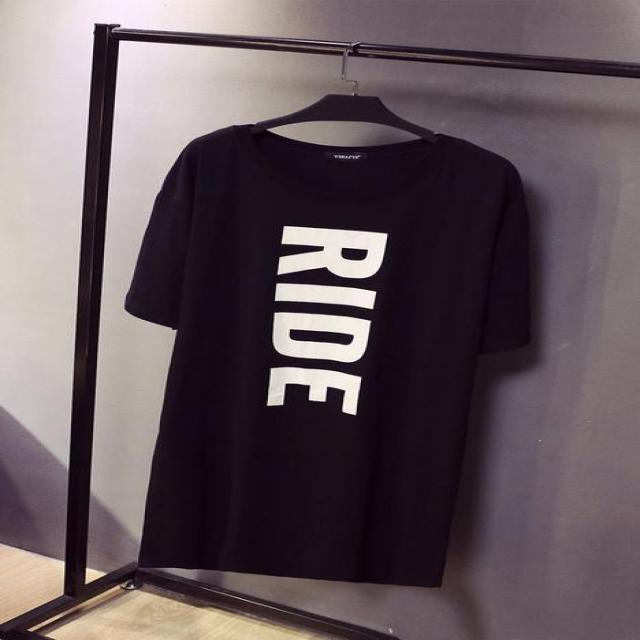short-sleeve-dress: (124, 119, 560, 603)
